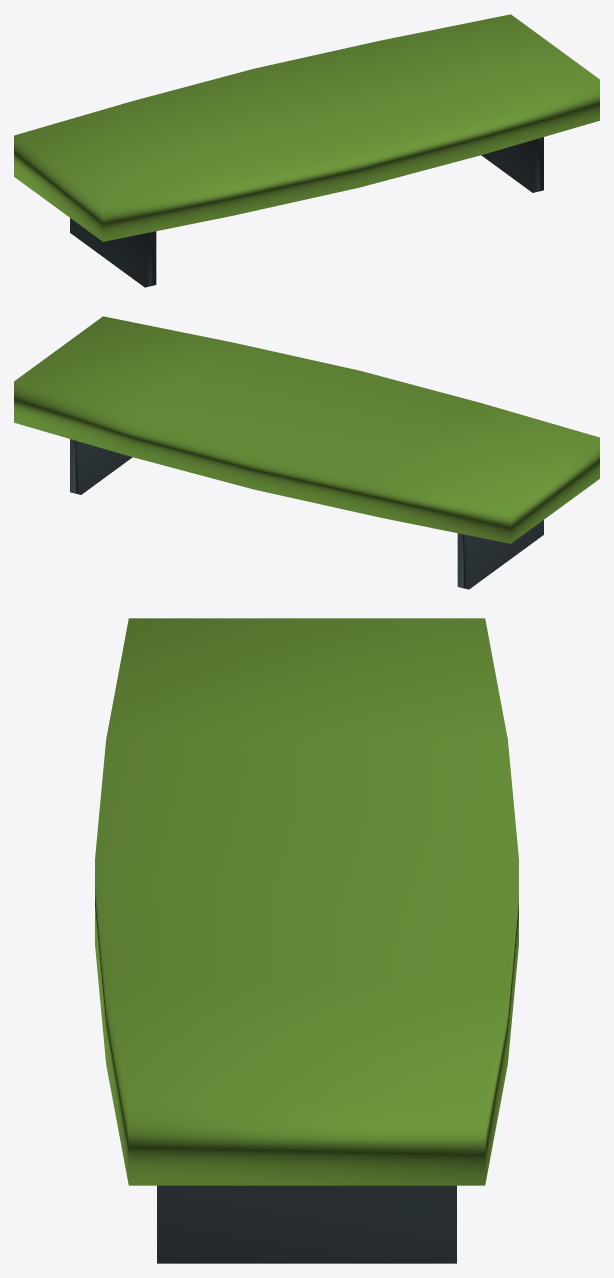
File: SM_Bench.fbx
3 views of the same model, one above another, from view 1: azimuth 30°, elevation 25°; view 2: azimuth 150°, elevation 25°; view 3: azimuth 270°, elevation 25° (orthographic). The views are drawn at different scales.
Parts seen in each view (by area): view 1: SM_Bench; view 2: SM_Bench; view 3: SM_Bench.
Part boxes in pixels (x1=…): SM_Bench: x1=14, y1=14, x2=599, y2=287; SM_Bench: x1=14, y1=316, x2=599, y2=589; SM_Bench: x1=95, y1=618, x2=518, y2=1263.
Bounding box in the file's own units: 1.7 × 0.34 × 0.6286.
1 material, 1 textured.
